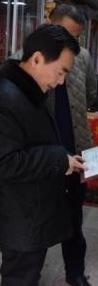boots: (65, 272, 93, 286), (1, 1, 1, 1)
